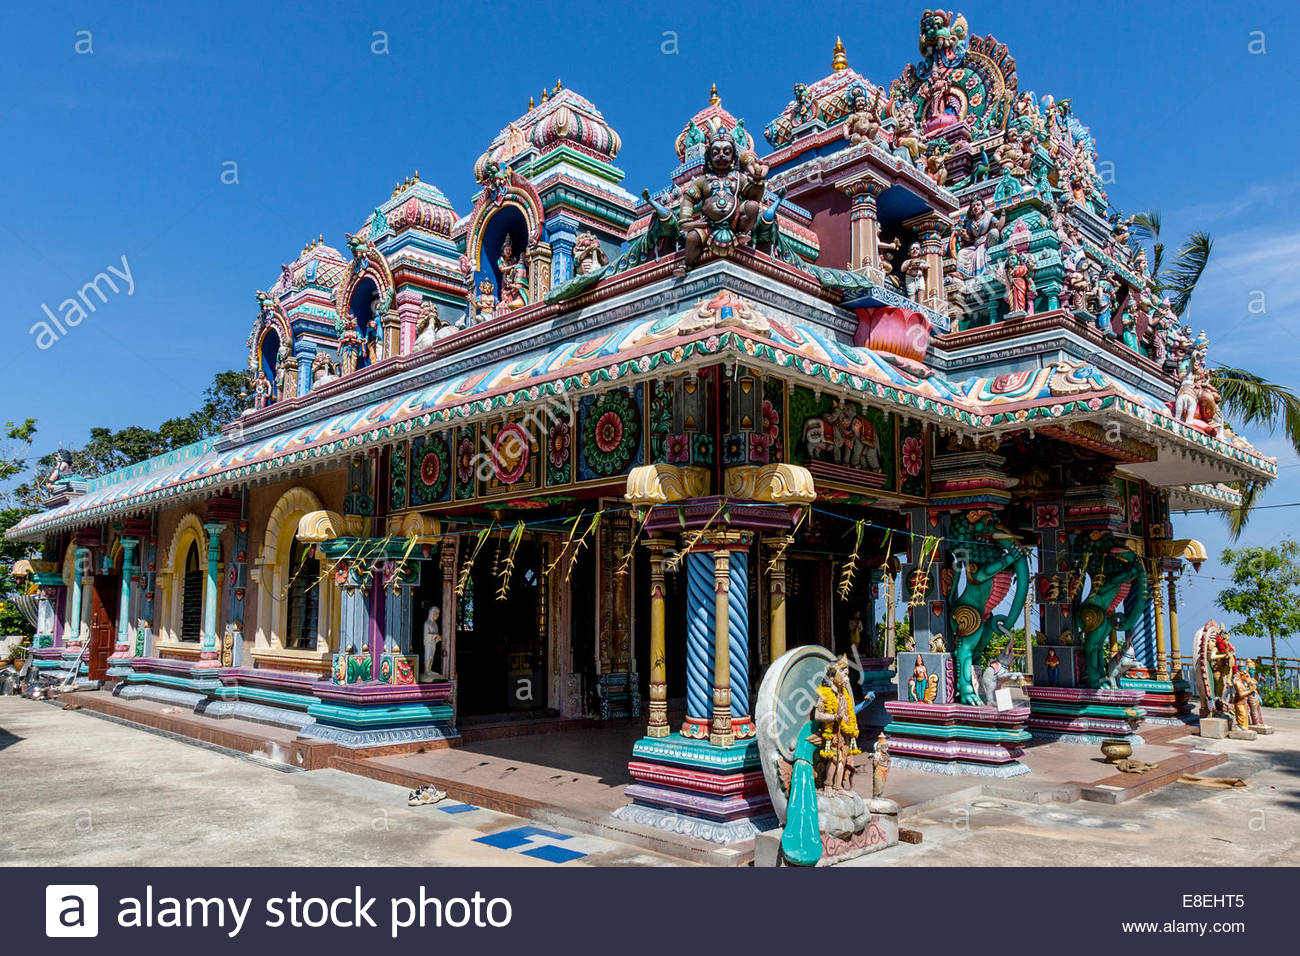Hindu Temple: (55, 16, 1257, 748)
